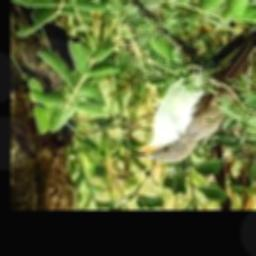Cuckoo: (132, 0, 256, 163)
